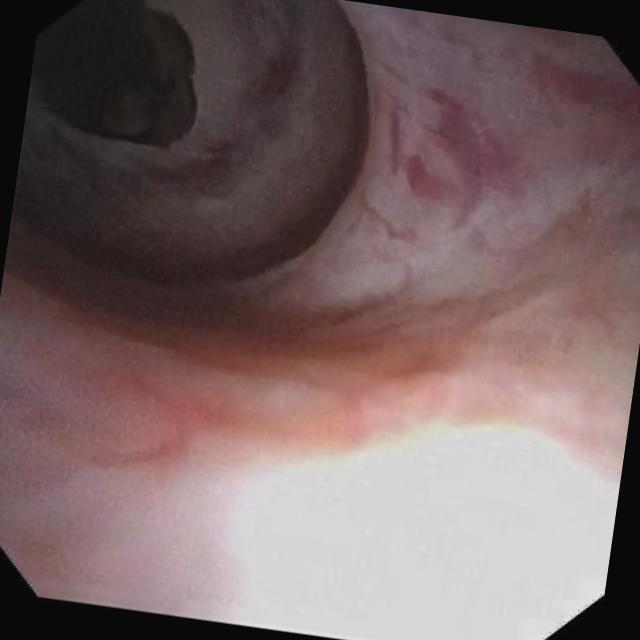stone-new: (33, 0, 197, 148)
